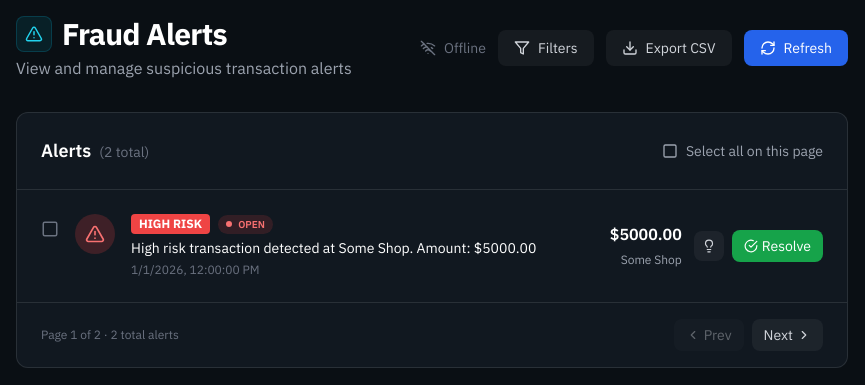
Test: AlertsPage › shows pagination controls only when there is more than one page, and Next fetches page 2
expect the text "High risk transaction detected" is shown: met, box [131,239,536,257]
Click the button "Next": coordinates (787, 335) [752,319,823,351]
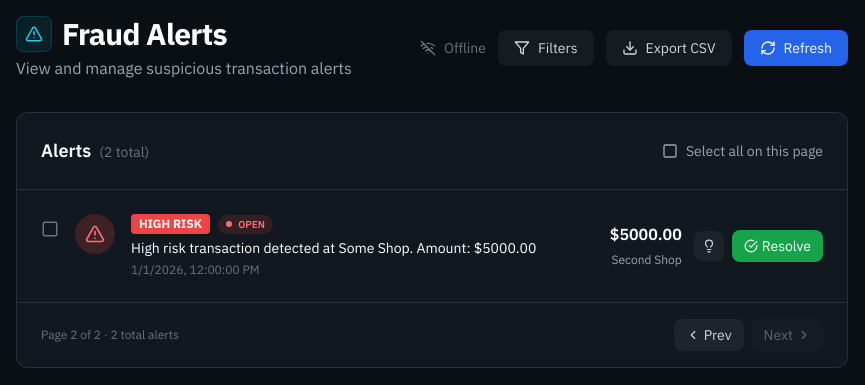
expect the text "Second Shop" is shown: met, box [611,252,682,267]
